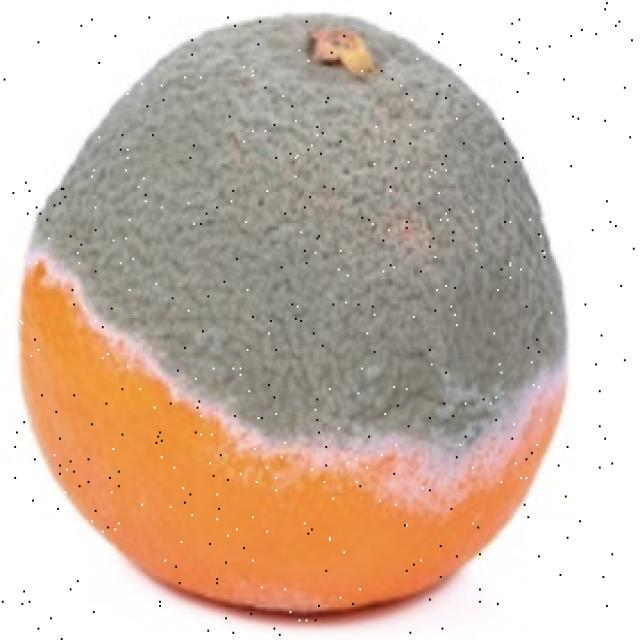sangat_busuk: (20, 10, 569, 616)
